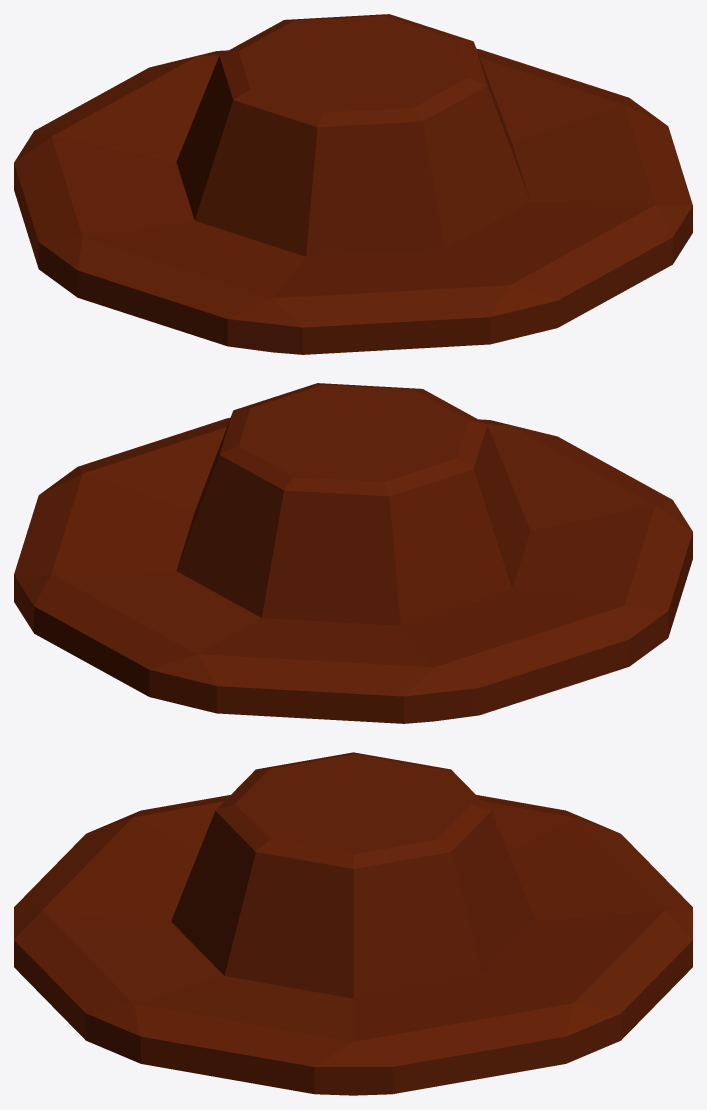
File: hat.fbx
3 views of the same model, one above another, from view 1: azimuth 30°, elevation 25°; view 2: azimuth 150°, elevation 25°; view 3: azimuth 270°, elevation 25° (orthographic).
Parts seen in each view (by area): view 1: Hat; view 2: Hat; view 3: Hat.
Part boxes in pixels (x1,y1,x2,y2): Hat: [14, 14, 692, 354]; Hat: [14, 383, 692, 723]; Hat: [14, 752, 692, 1095].
Bounding box in the file's own units: 372 × 96.57 × 372.
